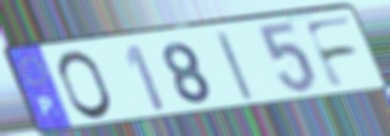1: (123, 42, 167, 113)
5: (253, 19, 319, 98)
8: (161, 40, 214, 104)
F: (300, 15, 362, 92)
I: (213, 29, 258, 104)
O: (55, 49, 115, 123)
